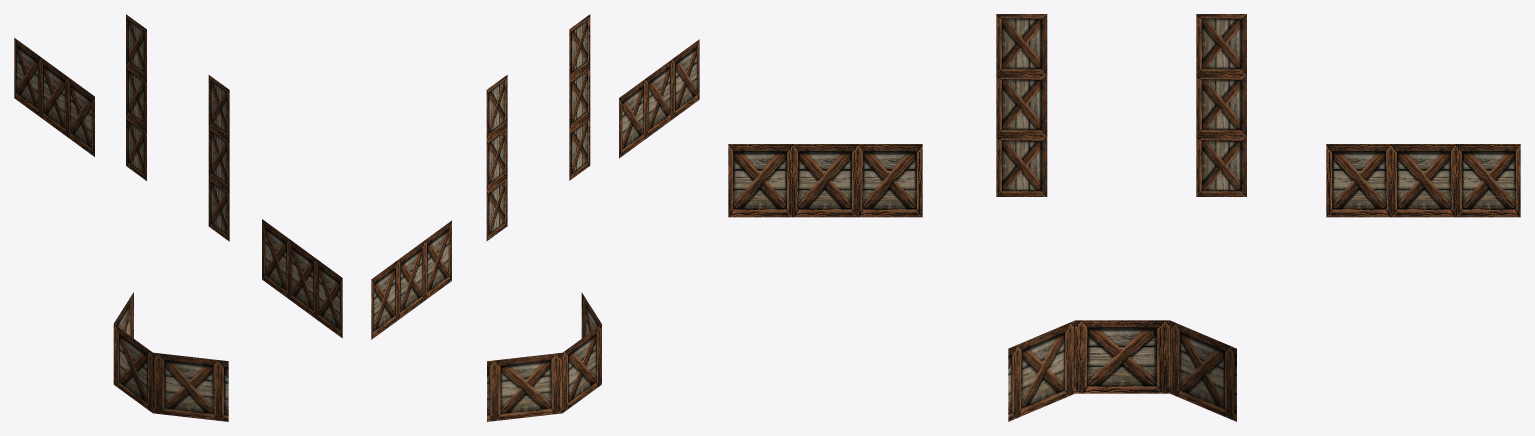
The model's file is LAKETOWN_EXTERIOR_PS_LT_PANELS2291.fbx.
3 views of the same model, side by side, from view 1: azimuth 30°, elevation 25°; view 2: azimuth 150°, elevation 25°; view 3: azimuth 270°, elevation 25° (orthographic). The views are drawn at different scales.
Parts seen in each view (by area): view 1: LAKETOWN_EXTERIOR_PS_LT_PANELS2291; view 2: LAKETOWN_EXTERIOR_PS_LT_PANELS2291; view 3: LAKETOWN_EXTERIOR_PS_LT_PANELS2291.
Part boxes in pixels (x1,y1,x2,y2): LAKETOWN_EXTERIOR_PS_LT_PANELS2291: (14,14,342,421); LAKETOWN_EXTERIOR_PS_LT_PANELS2291: (371,14,699,421); LAKETOWN_EXTERIOR_PS_LT_PANELS2291: (728,14,1520,421).
Bounding box in the file's own units: 8496 × 56775 × 100461.
1 material, 1 textured.
